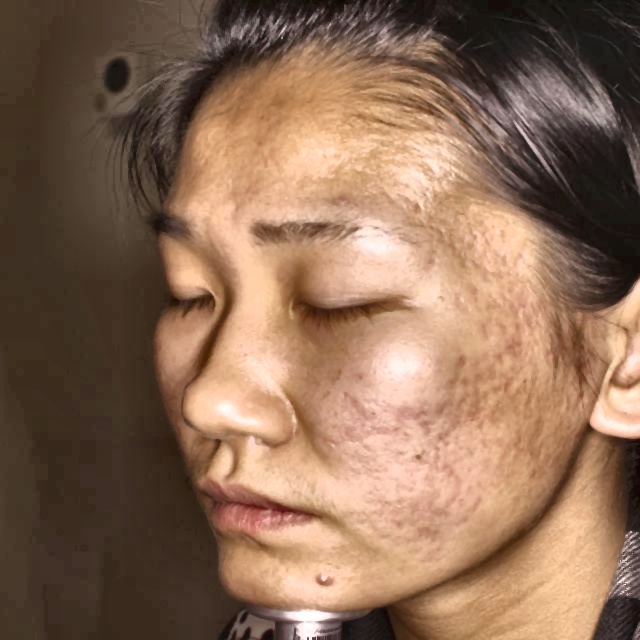comedone: (318, 565, 334, 595)
